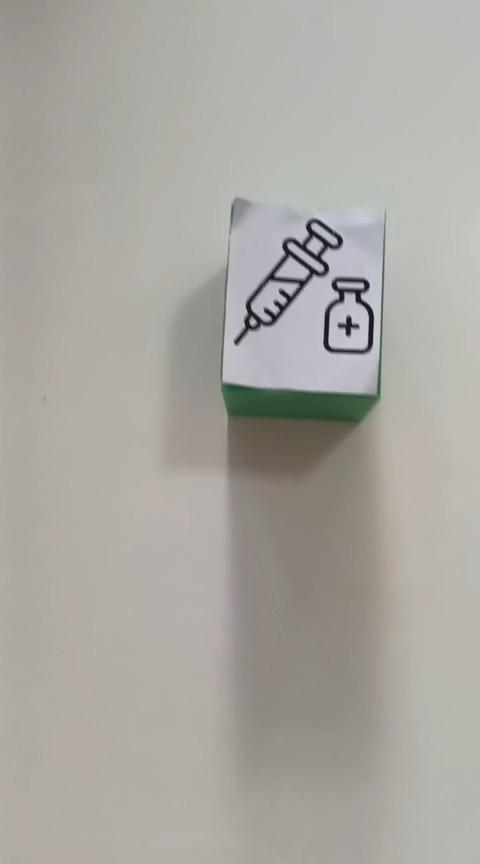antiseptic cream: (219, 195, 386, 423)
